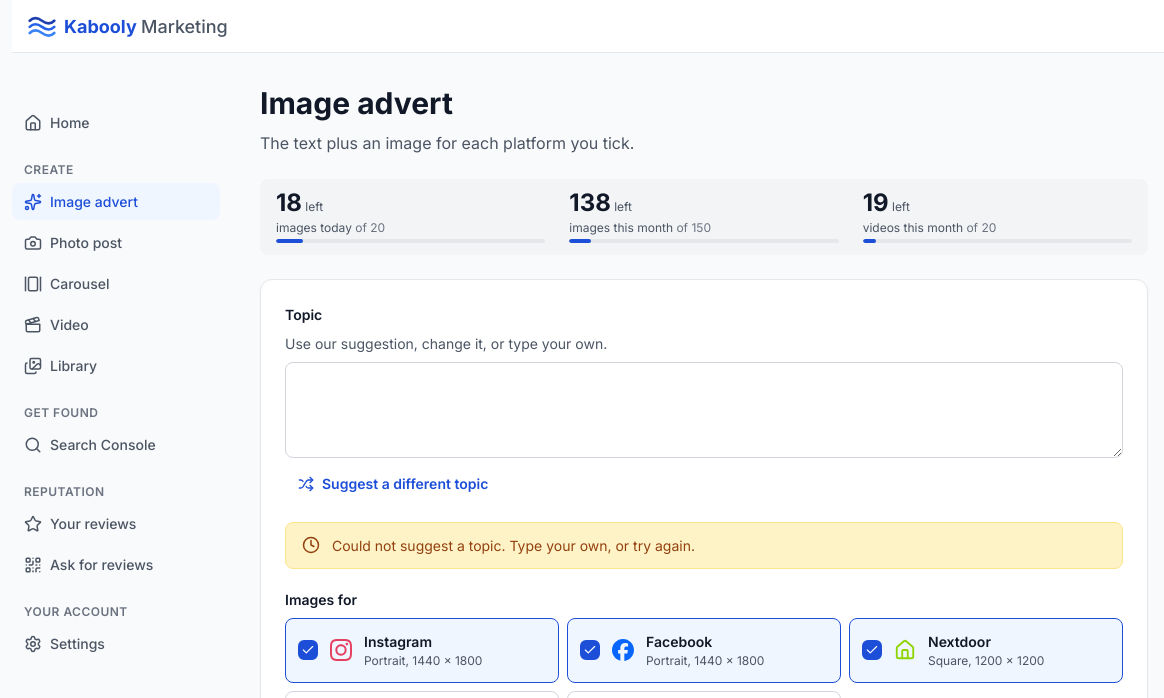
it: topic › still works by hand when suggestions fail
Expected: the text "Could not suggest a topic. Type your own, or try again." is shown, [332,534,695,556]
Type "Oven cleaning" into the text box with test id "topic-input" at (704, 410), box [285,362,1123,458]
(page scrolled)
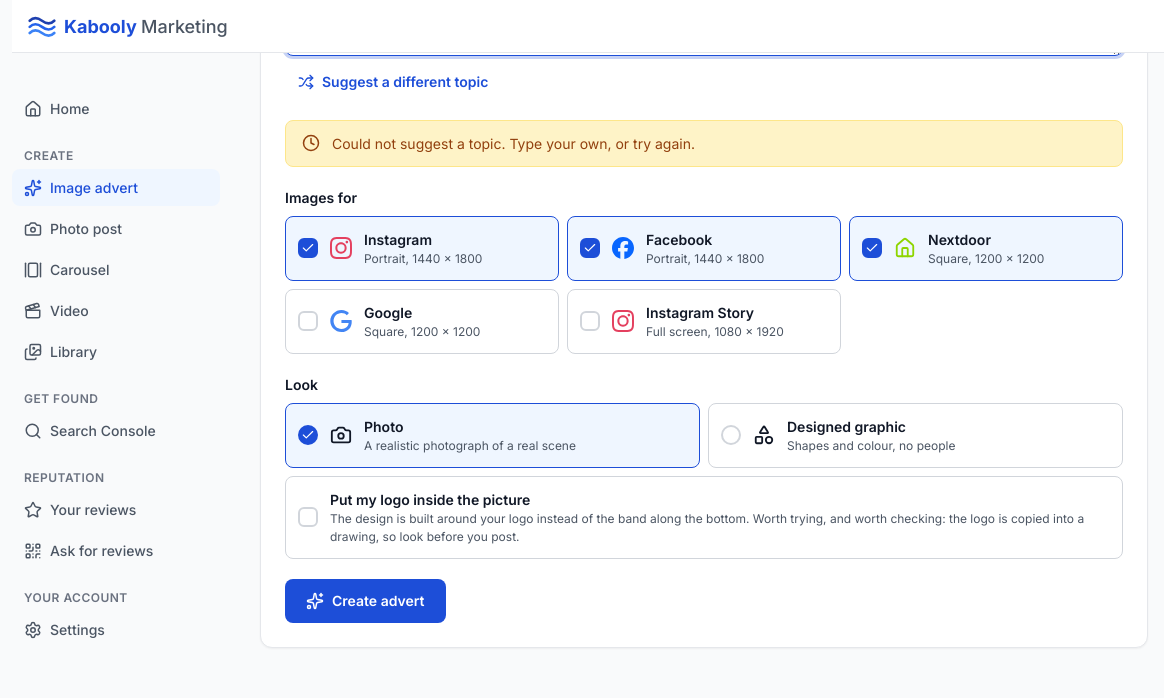
Expected: the button with test id "generate" is enabled, [285,578,446,622]
